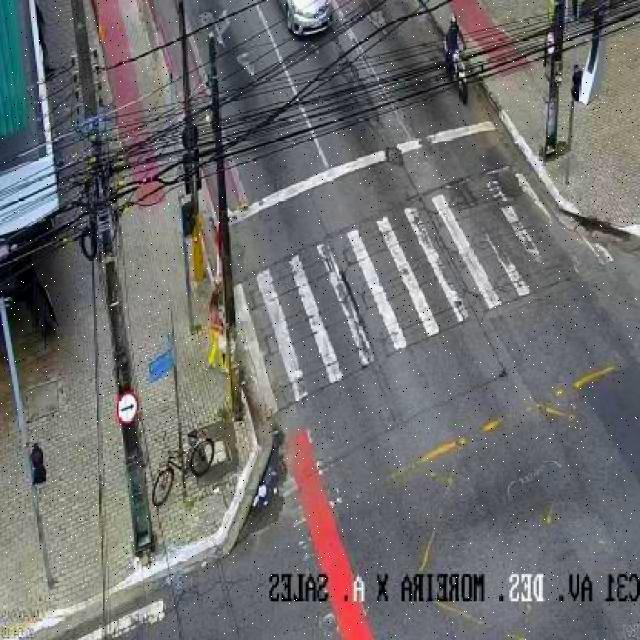Car: (279, 0, 334, 35)
Cycle: (152, 429, 216, 507), (443, 46, 474, 102)
